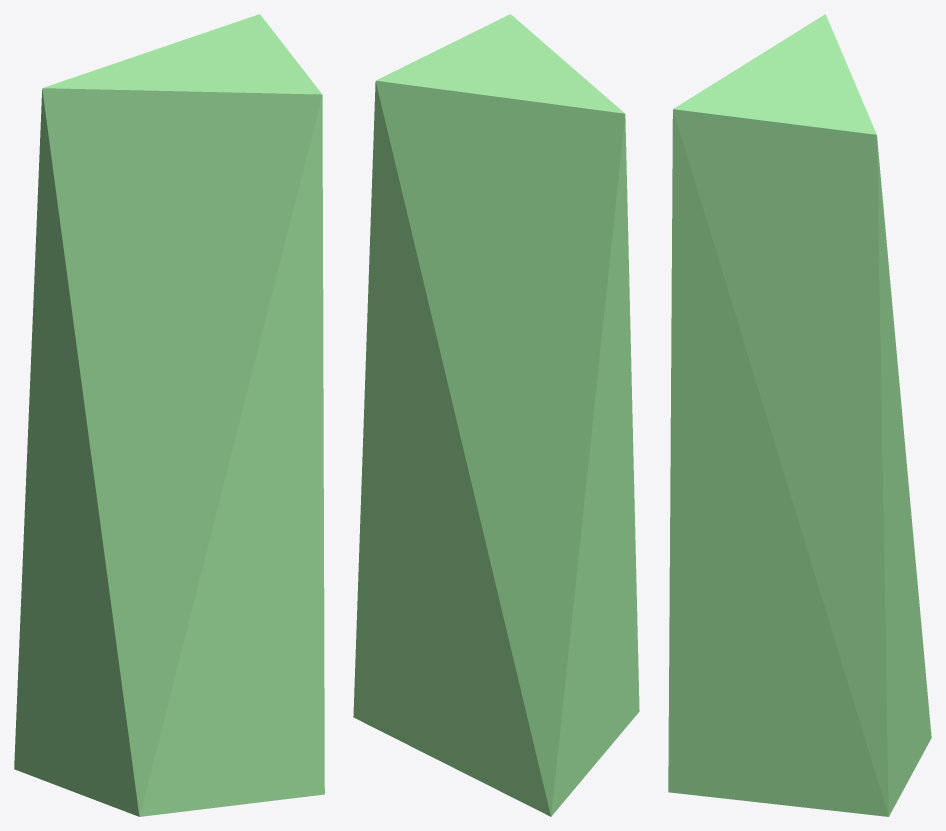
The model's file is spatula_robot_base_coll_14.dae.
3 renders of one model, left to right at view 1: azimuth 30°, elevation 25°; view 2: azimuth 150°, elevation 25°; view 3: azimuth 270°, elevation 25°, orthographic. The views are drawn at different scales.
Parts seen in each view (by area): view 1: Node_0x7fe6917b6bb0; view 2: Node_0x7fe6917b6bb0; view 3: Node_0x7fe6917b6bb0.
Part boxes in pixels (x1,y1,x2,y2): Node_0x7fe6917b6bb0: (14, 14, 324, 816); Node_0x7fe6917b6bb0: (353, 14, 639, 816); Node_0x7fe6917b6bb0: (668, 14, 931, 816).
Bounding box in the file's own units: 0.00629 × 0.0167 × 0.0056.
